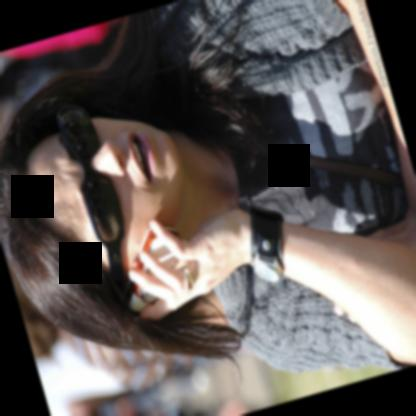handbag: (187, 108, 406, 200)
